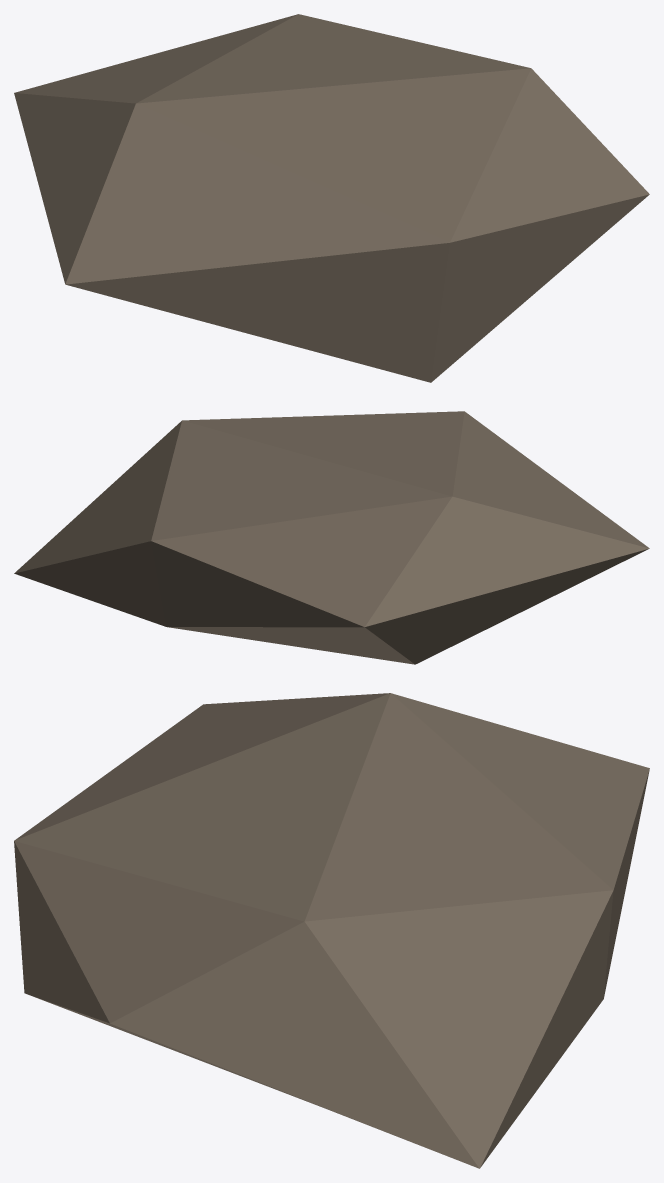
Rendered from ston6.FBX.
The picture shows the model from 3 angles, top to bottom: view 1: azimuth 30°, elevation 25°; view 2: azimuth 150°, elevation 25°; view 3: azimuth 270°, elevation 25°; orthographic projection. The views are drawn at different scales.
Parts seen in each view (by area): view 1: Object003; view 2: Object003; view 3: Object003.
Boxes of the visible parts, left/top/right/bottom form: Object003: left=14, top=14, right=649, bottom=382; Object003: left=14, top=411, right=649, bottom=664; Object003: left=14, top=693, right=649, bottom=1168.
Size of the model in its own units: 70.82 by 20.9 by 53.7.
